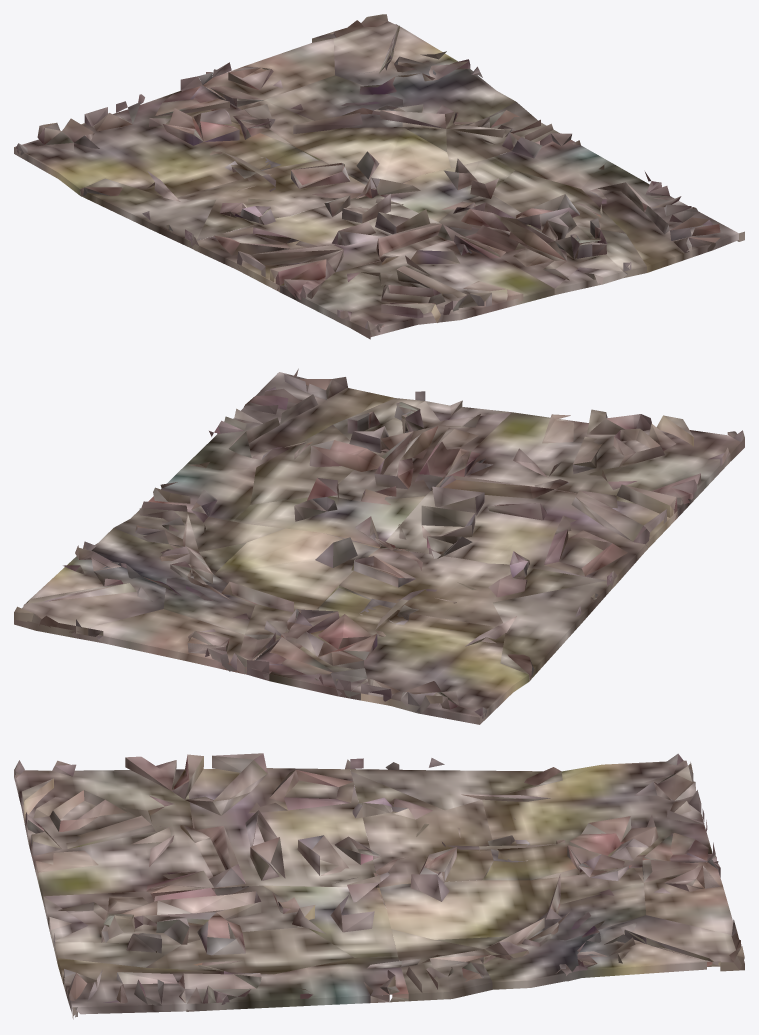
The picture shows the model from 3 angles, top to bottom: view 1: azimuth 30°, elevation 25°; view 2: azimuth 150°, elevation 25°; view 3: azimuth 270°, elevation 25°; orthographic projection. The views are drawn at different scales.
Visible parts, largest first — view 1: Mesh_0; view 2: Mesh_0; view 3: Mesh_0.
Part boxes in pixels (x1,y1,x2,y2): Mesh_0: [14, 14, 744, 339]; Mesh_0: [14, 368, 744, 724]; Mesh_0: [14, 753, 744, 1019].
Size of the model in its own units: 1080 by 94.28 by 1318.
Materials: 1 (1 with a texture image).
